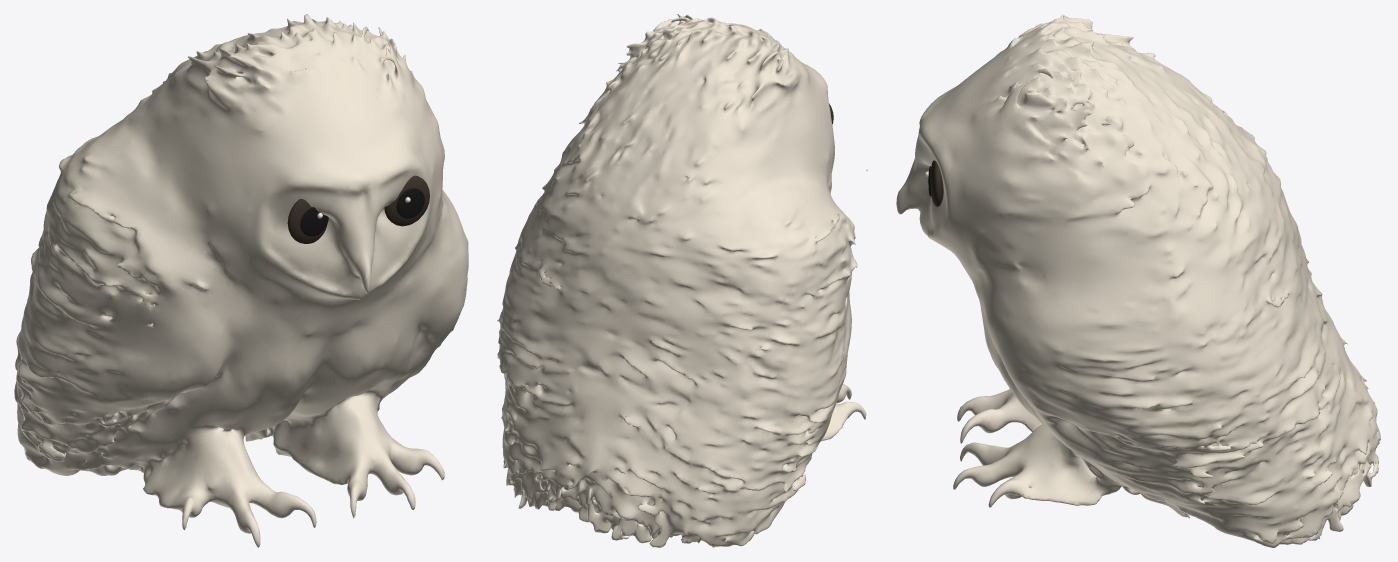
The model's file is run115_eyes_only_ART_UNAPPROVED.glb.
3 views of the same model, side by side, from view 1: azimuth 30°, elevation 25°; view 2: azimuth 150°, elevation 25°; view 3: azimuth 270°, elevation 25° (orthographic). The views are drawn at different scales.
Visible parts, largest first — view 1: actual_neural_juvenile_sculpt_softened_RESEARCH_ONLY, real_socket_registered_dark_open_eye_1, real_socket_registered_dark_open_eye_-1, nested_small_pupil_1, nested_small_pupil_-1; view 2: actual_neural_juvenile_sculpt_softened_RESEARCH_ONLY; view 3: actual_neural_juvenile_sculpt_softened_RESEARCH_ONLY.
Part boxes in pixels (x1,y1,x2,y2): actual_neural_juvenile_sculpt_softened_RESEARCH_ONLY: (14, 14, 468, 547); real_socket_registered_dark_open_eye_1: (384, 175, 429, 226); real_socket_registered_dark_open_eye_-1: (287, 199, 326, 243); nested_small_pupil_1: (396, 188, 424, 218); nested_small_pupil_-1: (300, 207, 328, 236); actual_neural_juvenile_sculpt_softened_RESEARCH_ONLY: (497, 14, 867, 547); actual_neural_juvenile_sculpt_softened_RESEARCH_ONLY: (896, 14, 1380, 547).
Size of the model in its own units: 1.59 by 1.89 by 1.82.
